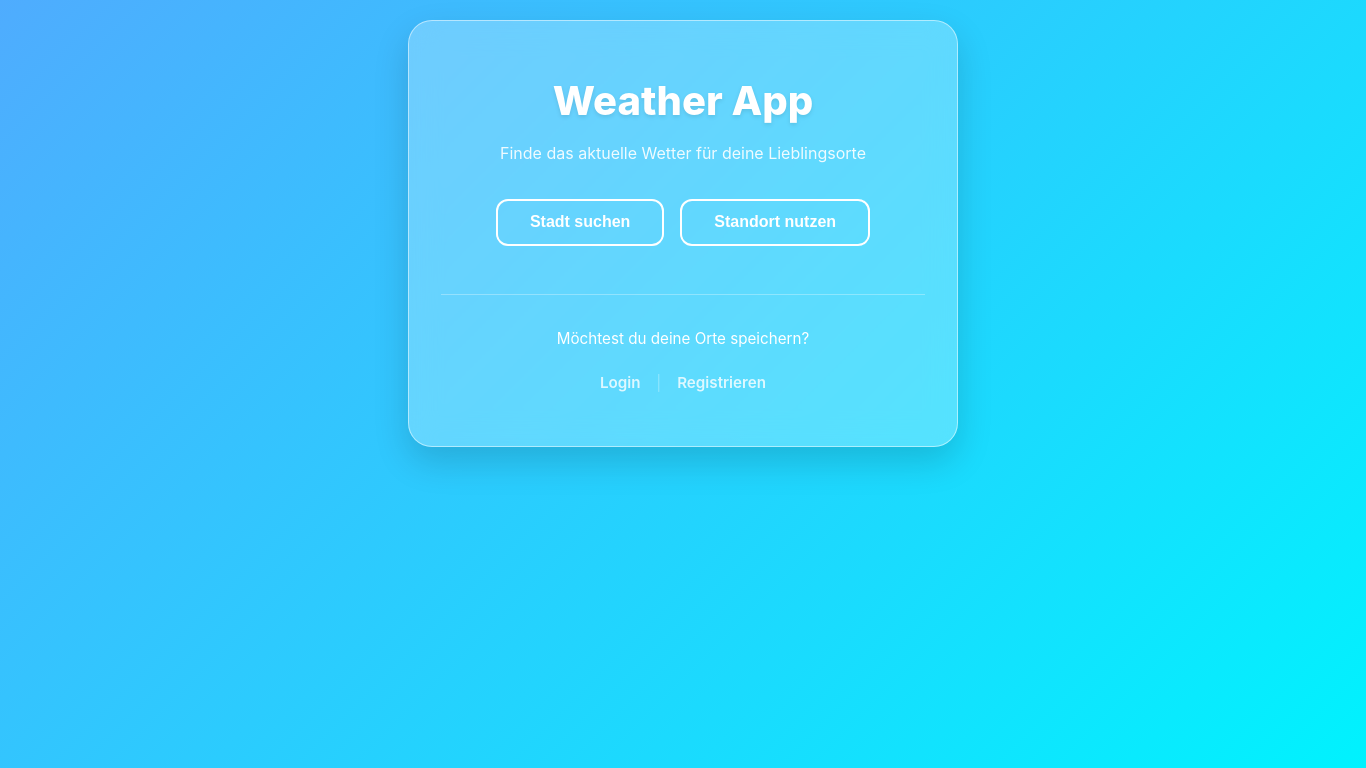
Test: HomeView › Test 5: Zeigt die Suchleiste an, wenn der Button geklickt wird
Button klicken, um showSearch auf true zu setzen
Click the button with class "outline" showing "Stadt suchen".
click(580, 222)  # box [496, 199, 664, 246]
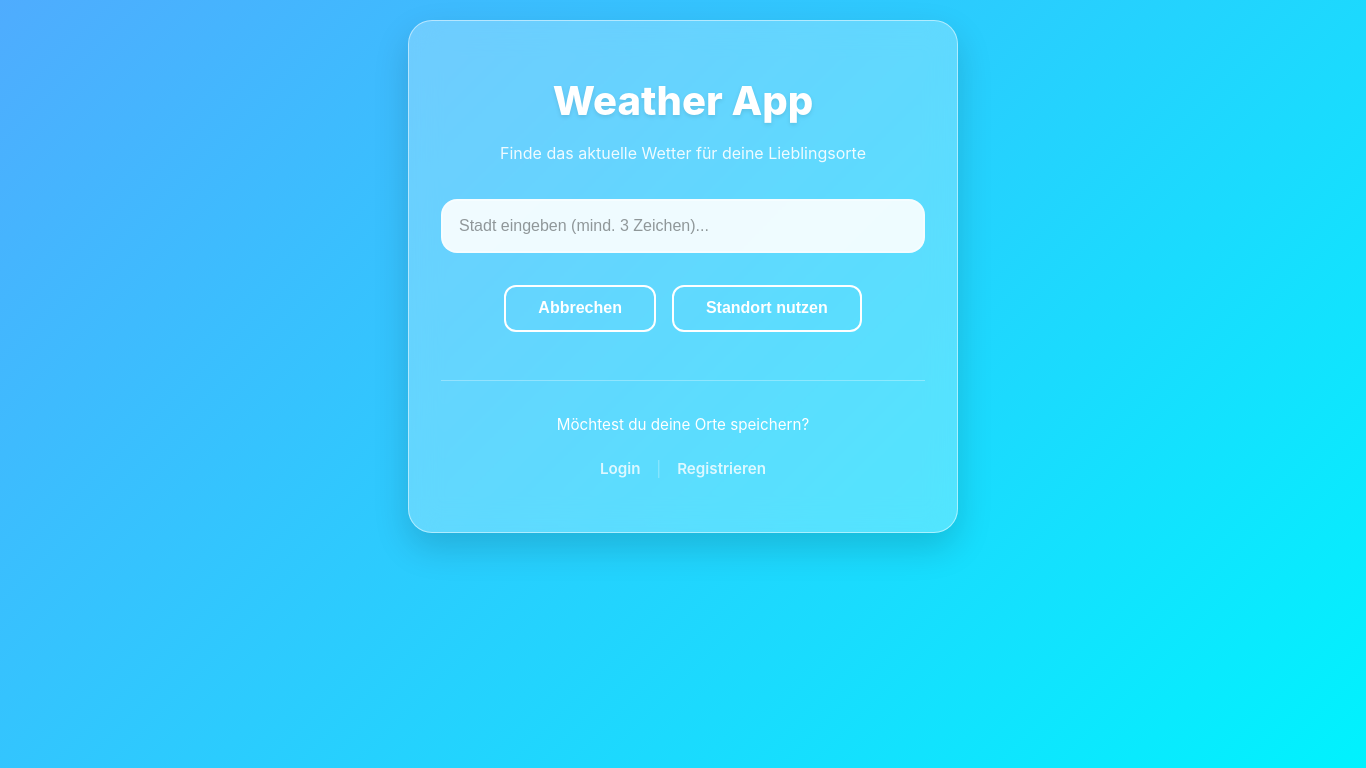
expect the field with class "search-input" is shown: met, box [441, 199, 925, 253]
